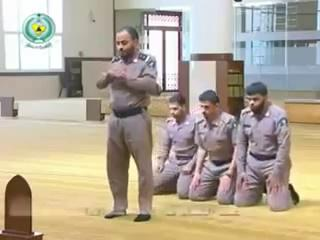julus: (233, 81, 300, 212), (187, 89, 239, 205), (153, 94, 197, 199)
qiyam: (96, 26, 158, 222)
